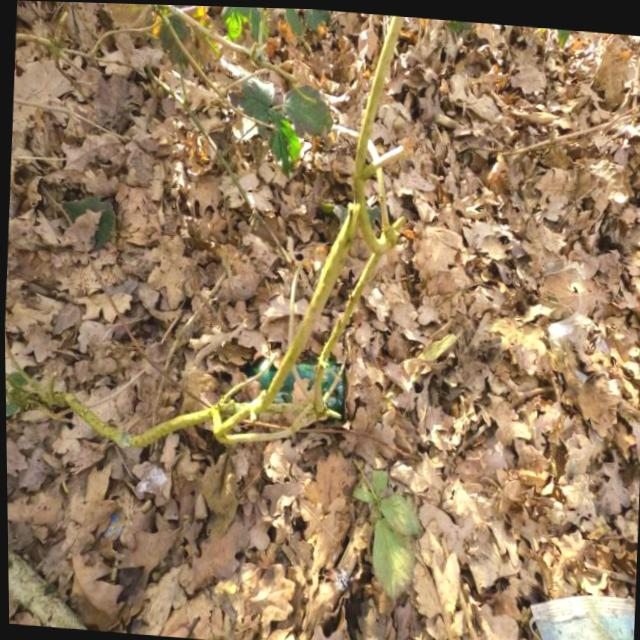Mask: (519, 578, 634, 640)
